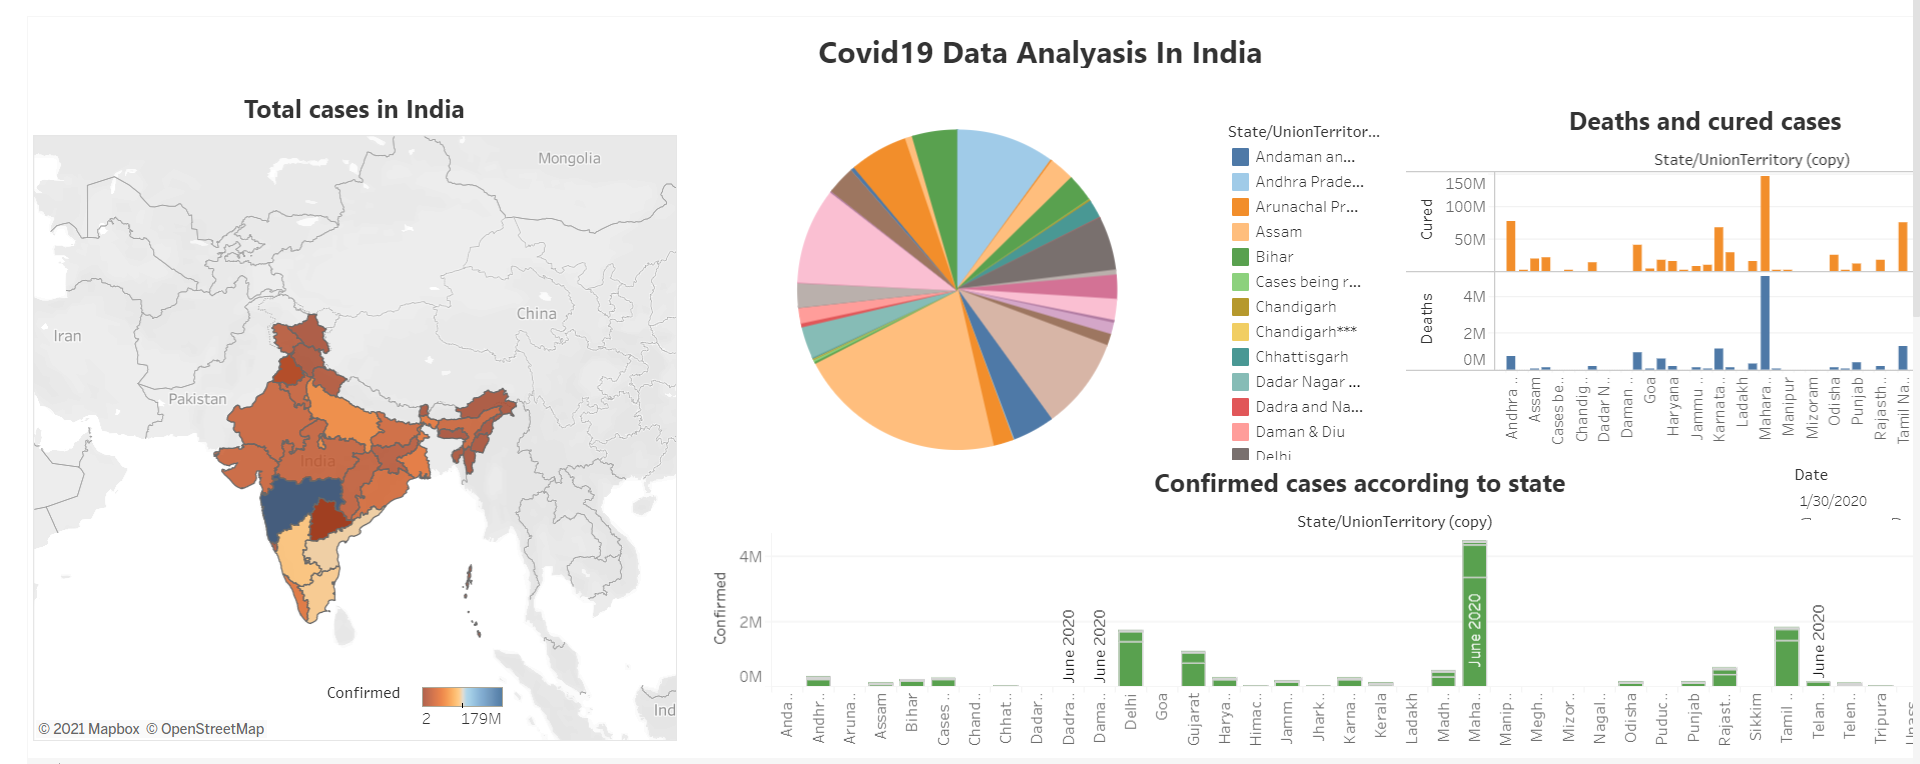

What the dashboard file says about the page in this screenshot:
{"tool":"tableau","page":{"name":"Dashboard 1","canvas":[1000,1000],"units":"permille","ordinal":0},"visuals":[{"type":"worksheet","box":[0,0,1000,1000]},{"type":"worksheet","param":"vert","box":[4.9,9.3,990.1,981.4]},{"type":"worksheet","box":[4.9,9.3,990.1,55.8]},{"type":"worksheet","title":"Sheet 3","mark":"Automatic","rows":["Cured","Deaths"],"cols":["State/UnionTerritory (copy)_1895171036655460352"],"param":"[federated.0lk78un1p0xz9h145vvv100vrfuw].[none:Time:nk]","box":[901.2,26.7,98.8,196.5]},{"type":"worksheet","box":[4.9,65.1,990.1,925.6]},{"type":"worksheet","title":"Sheet 1","mark":"Automatic","box":[2.5,93,317.9,882.6]},{"type":"worksheet","title":"Sheet 4","mark":"Pie","box":[328.4,104.7,260.5,500]},{"type":"worksheet","title":"Sheet 3","mark":"Automatic","rows":["Cured","Deaths"],"cols":["State/UnionTerritory (copy)_1895171036655460352"],"box":[680.2,108.1,300,470.9]},{"type":"worksheet","title":"Sheet 4","mark":"Pie","param":"[federated.0lk78un1p0xz9h145vvv100vrfuw].[none:State/UnionTerritory (copy)_18951","box":[592.6,139.5,78.4,458.1]},{"type":"worksheet","title":"Sheet 6","mark":"Bar","rows":["Confirmed"],"cols":["State/UnionTerritory (copy)_1895171036655460352"],"box":[331.5,596.5,652.5,387.2]},{"type":"worksheet","title":"Sheet 6","mark":"Bar","rows":["Confirmed"],"cols":["State/UnionTerritory (copy)_1895171036655460352"],"param":"[federated.0lk78un1p0xz9h145vvv100vrfuw].[none:Date:qk]","box":[872.2,602.3,98.8,75.6]},{"type":"worksheet","title":"Sheet 1","mark":"Automatic","param":"[federated.0lk78un1p0xz9h145vvv100vrfuw].[sum:Confirmed:qk]","box":[147.5,897.7,89.5,62.8]}]}

Visuals, with their boxes on the dashboard's canvas, which has no fixed pixel size, in thousandths of its width and height (x1, y1, x2, y2). These are canvas units, not pixel positions in the 1920x764 screenshot, which may show the page scaled, cropped or inside an application window:
worksheet: 0,0,1000,1000
worksheet: 5,9,995,991
worksheet: 5,9,995,65
"Sheet 3" worksheet: 901,27,1000,223
worksheet: 5,65,995,991
"Sheet 1" worksheet: 2,93,320,976
"Sheet 4" worksheet (Pie marks): 328,105,589,605
"Sheet 3" worksheet: 680,108,980,579
"Sheet 4" worksheet (Pie marks): 593,140,671,598
"Sheet 6" worksheet (Bar marks): 332,596,984,984
"Sheet 6" worksheet (Bar marks): 872,602,971,678
"Sheet 1" worksheet: 148,898,237,960
